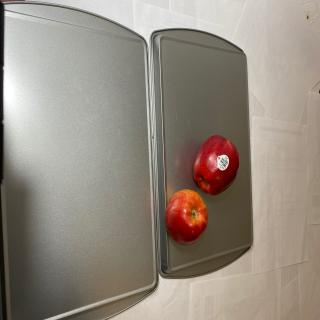Apple: (193, 135, 240, 195), (165, 189, 208, 245)
